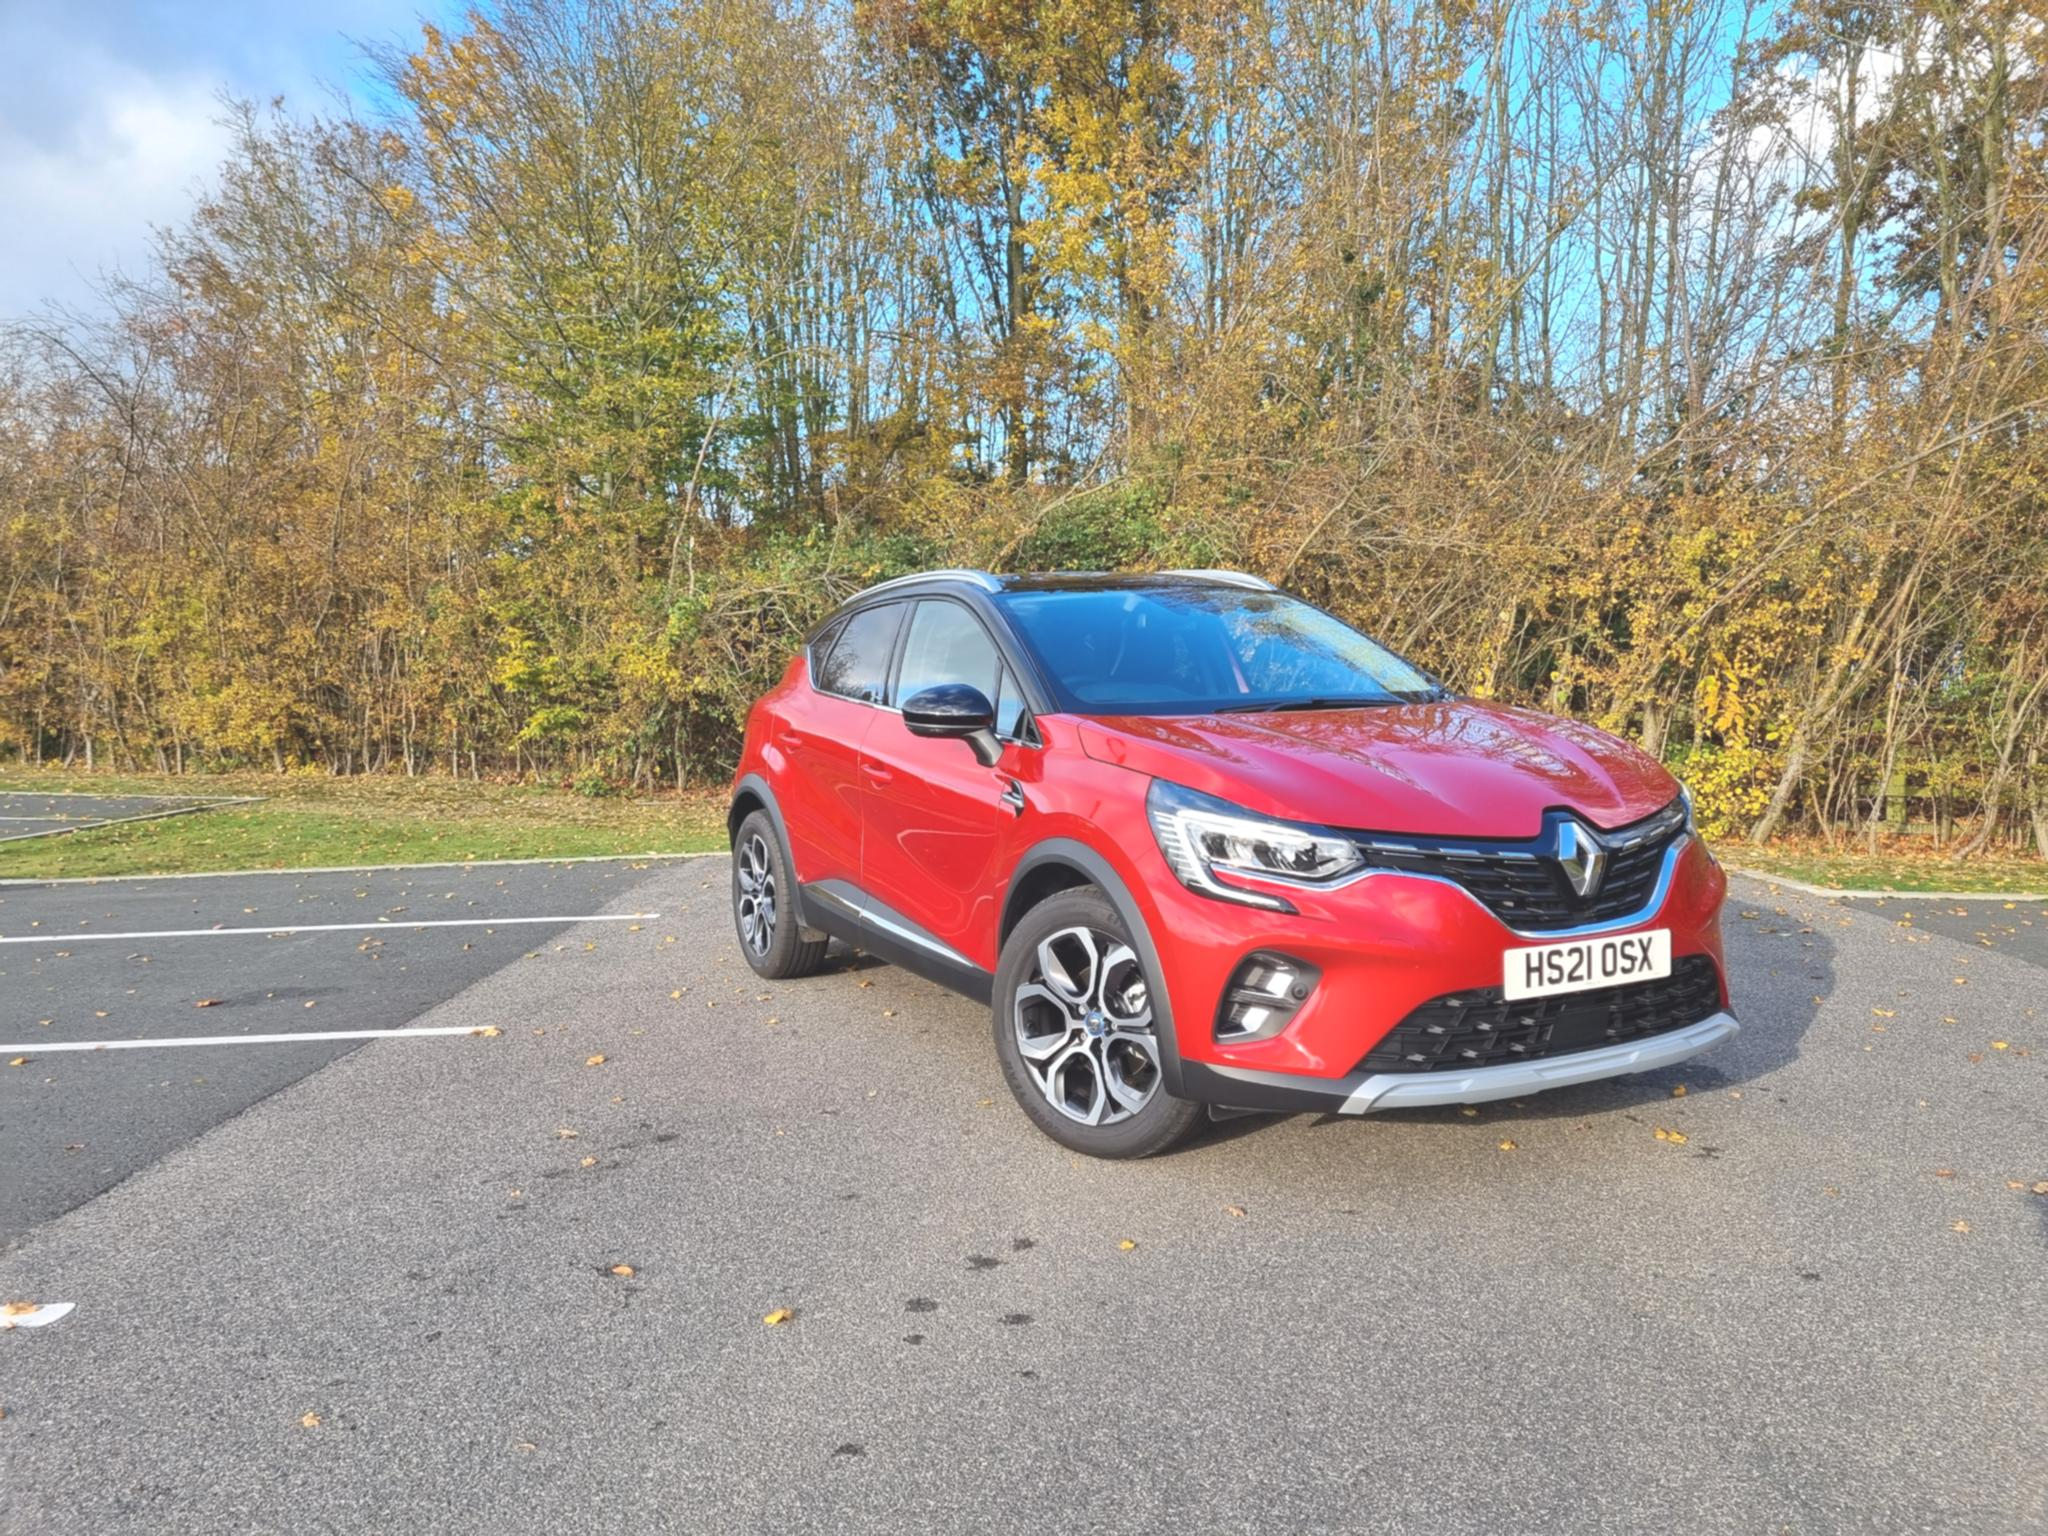Renault: (1530, 803, 1619, 900)
